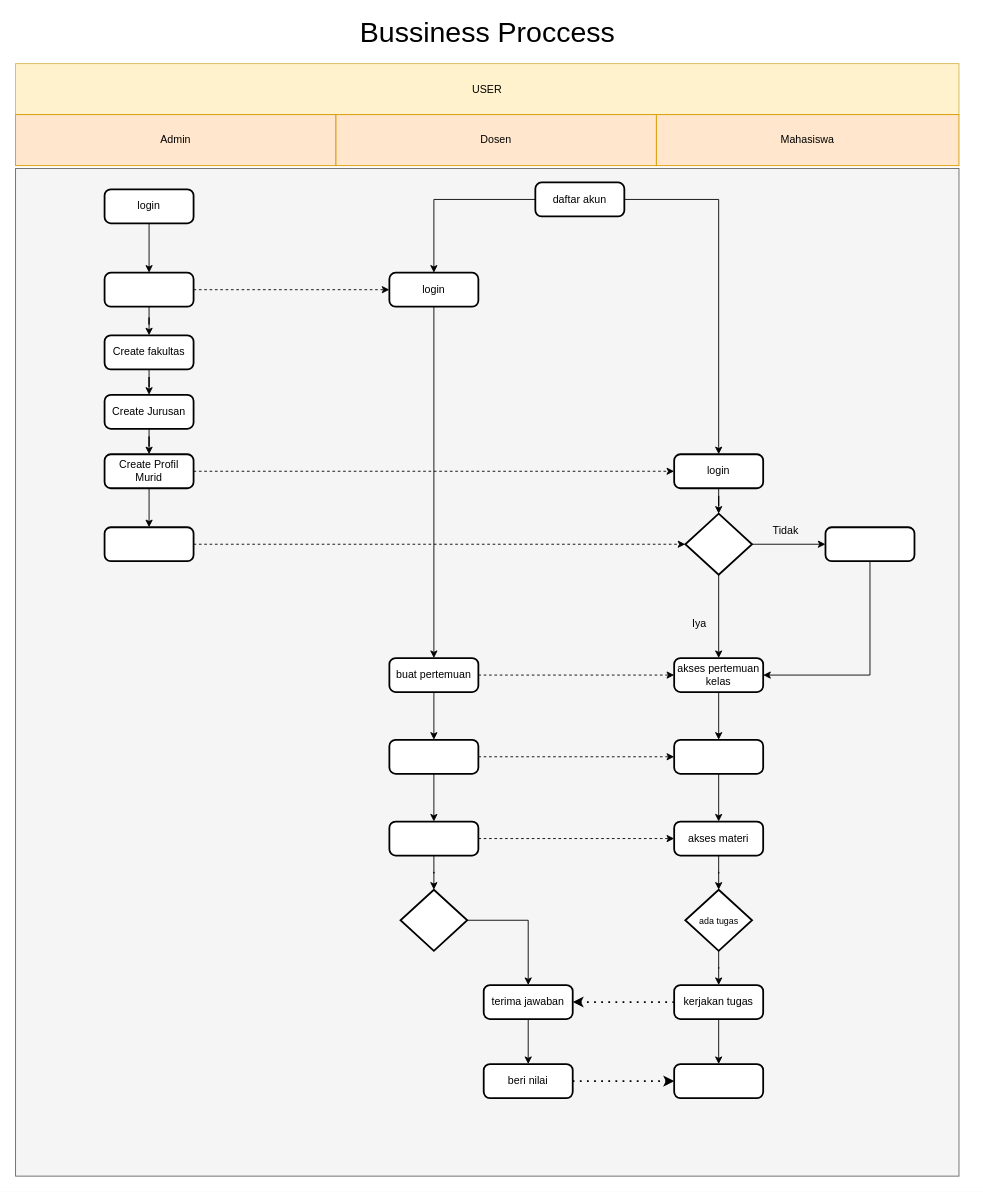
Some shapes in this 983 by 1192 pixel diagram are drawn without their labels. Here are the shapes that lost their labels. From the top down, the centre of each, then its label:
At [148,289]: "Create Profil Dosen".
At [148,544]: "Create Kelas".
At [718,543]: "sudah enroll kelas?".
At [869,544]: "Enroll Kelas".
At [433,756]: "buka absensi".
At [718,756]: "isi absensi".
At [433,838]: "buat materi".
At [433,919]: "buat tugas".
At [718,1081]: "terima nilai".
